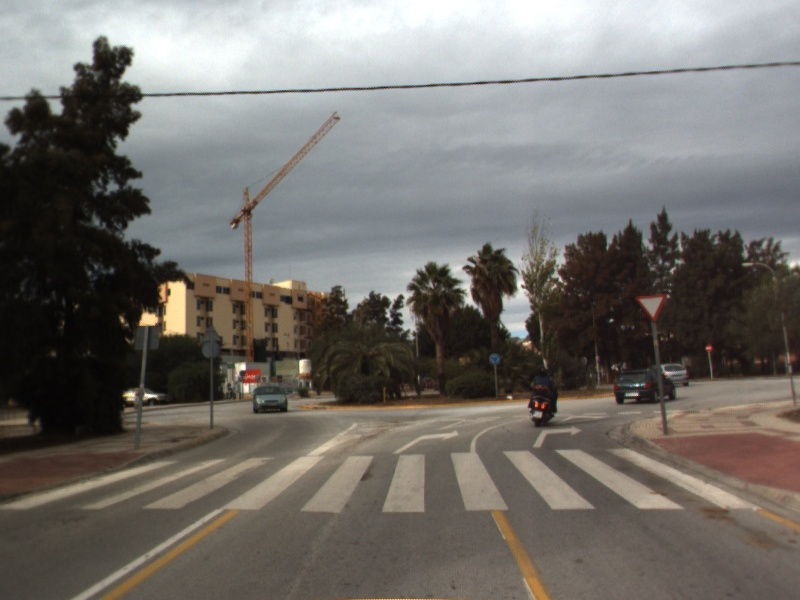RIGHT: (390, 428, 461, 456), (531, 424, 584, 450)
